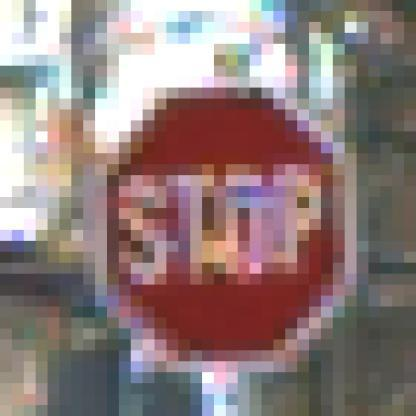Stop: (95, 81, 351, 367)
